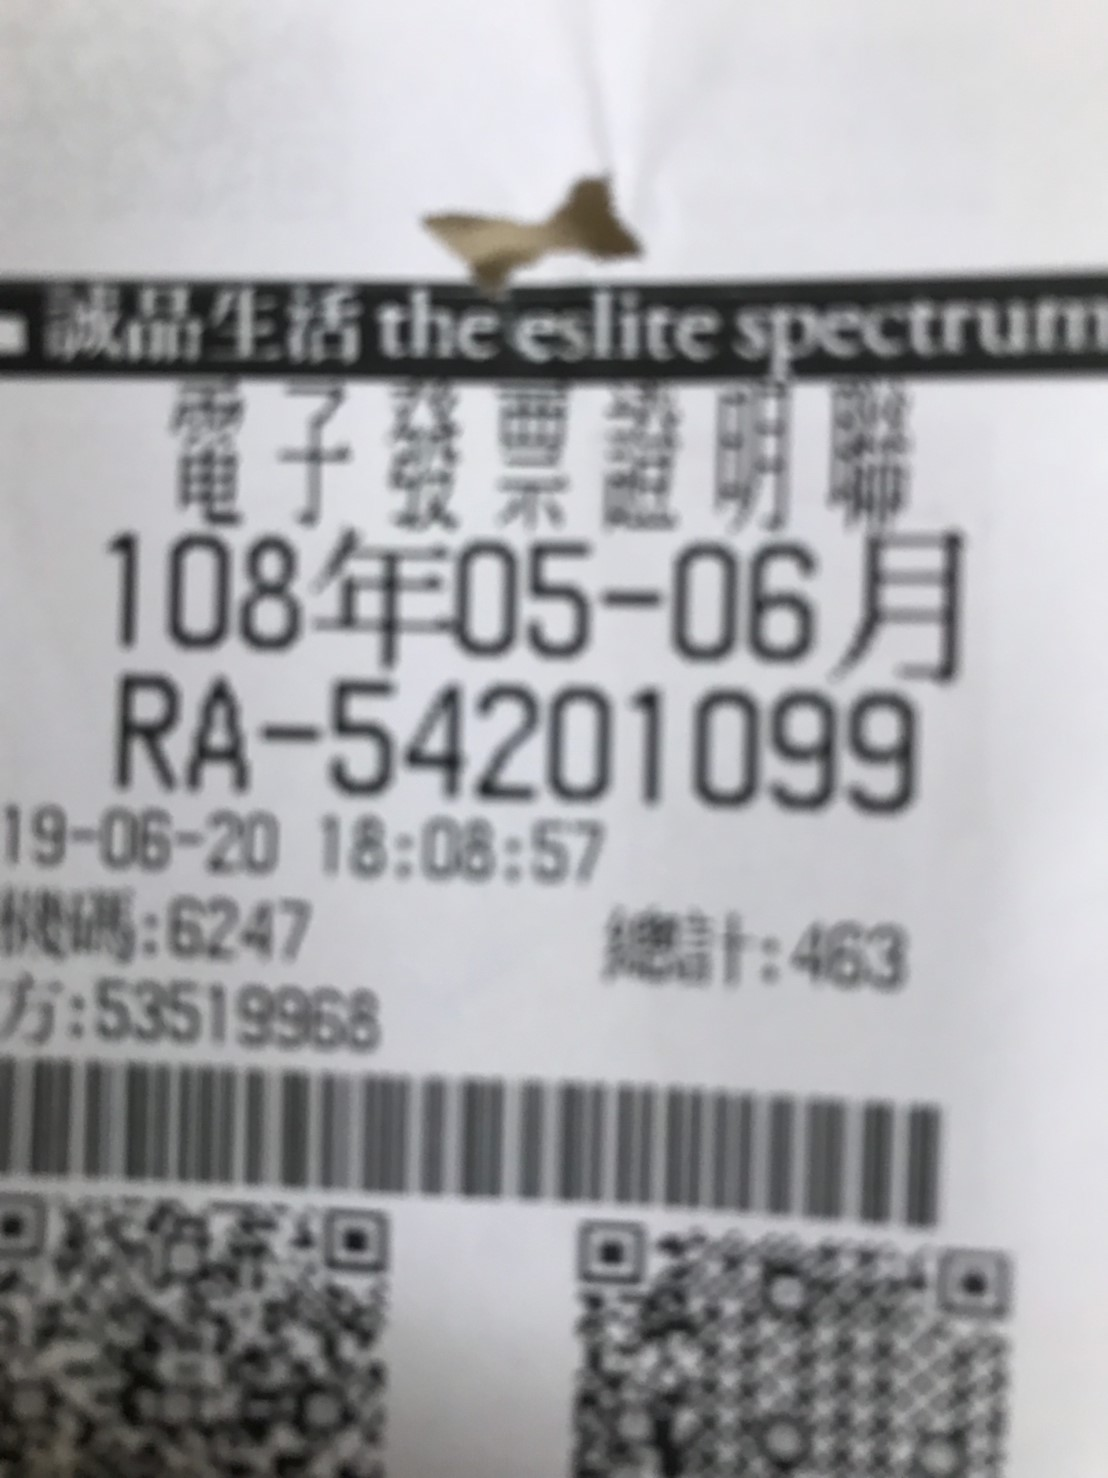Date_New: (109, 527, 970, 690)
Number_New: (329, 673, 923, 818)
